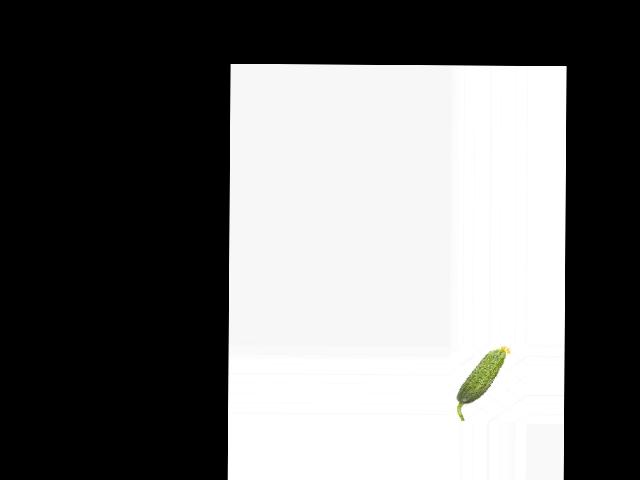cucumber: (456, 345, 511, 420)
